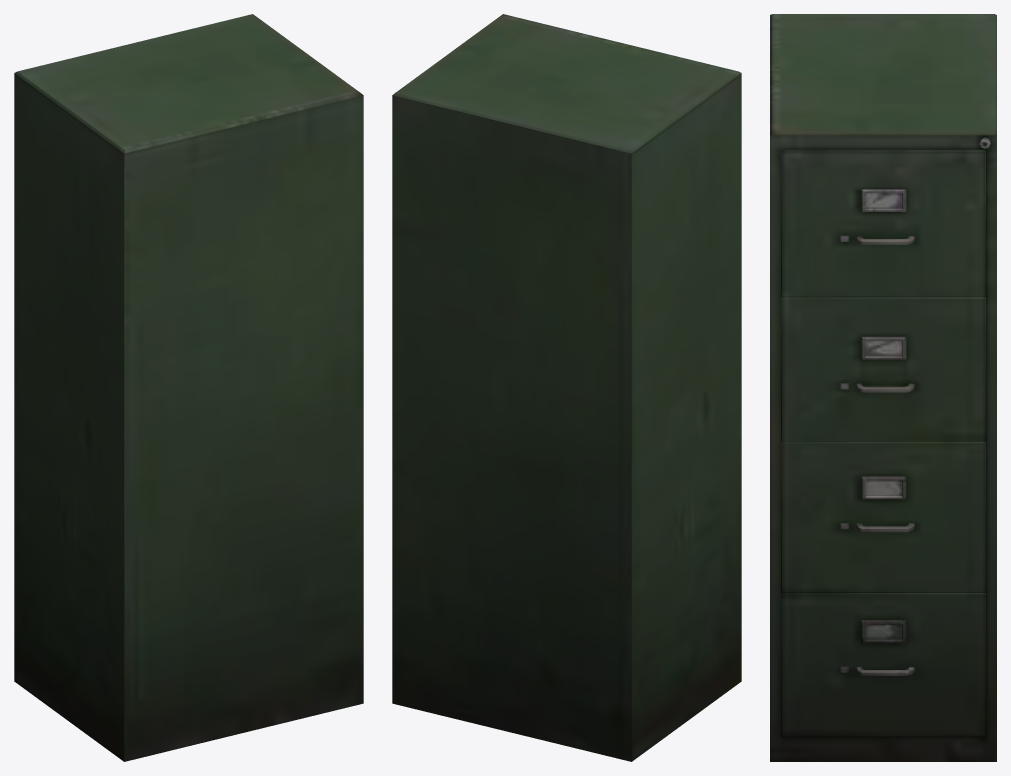
The model's file is controlroom_filecabinet002a.glb.
3 views of the same model, side by side, from view 1: azimuth 30°, elevation 25°; view 2: azimuth 150°, elevation 25°; view 3: azimuth 270°, elevation 25° (orthographic). The views are drawn at different scales.
Parts seen in each view (by area): view 1: 0_controlroom_filecabinets001; view 2: 0_controlroom_filecabinets001; view 3: 0_controlroom_filecabinets001.
Boxes of the visible parts, x1,y1,x2,y2 form: 0_controlroom_filecabinets001: [14, 14, 363, 761]; 0_controlroom_filecabinets001: [392, 14, 741, 761]; 0_controlroom_filecabinets001: [770, 14, 996, 761].
Size of the model in its own units: 0.7618 by 1.77 by 0.5791.
1 material, 1 textured.
